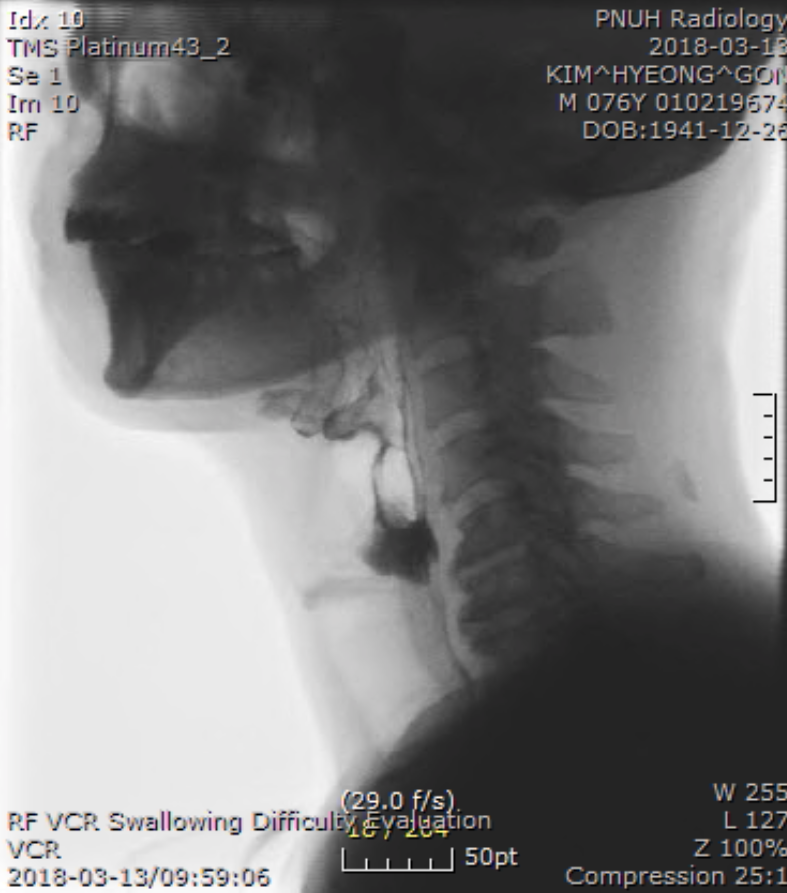dros: (387, 468, 431, 528)
food: (367, 502, 442, 584)
uros: (324, 395, 369, 444)
